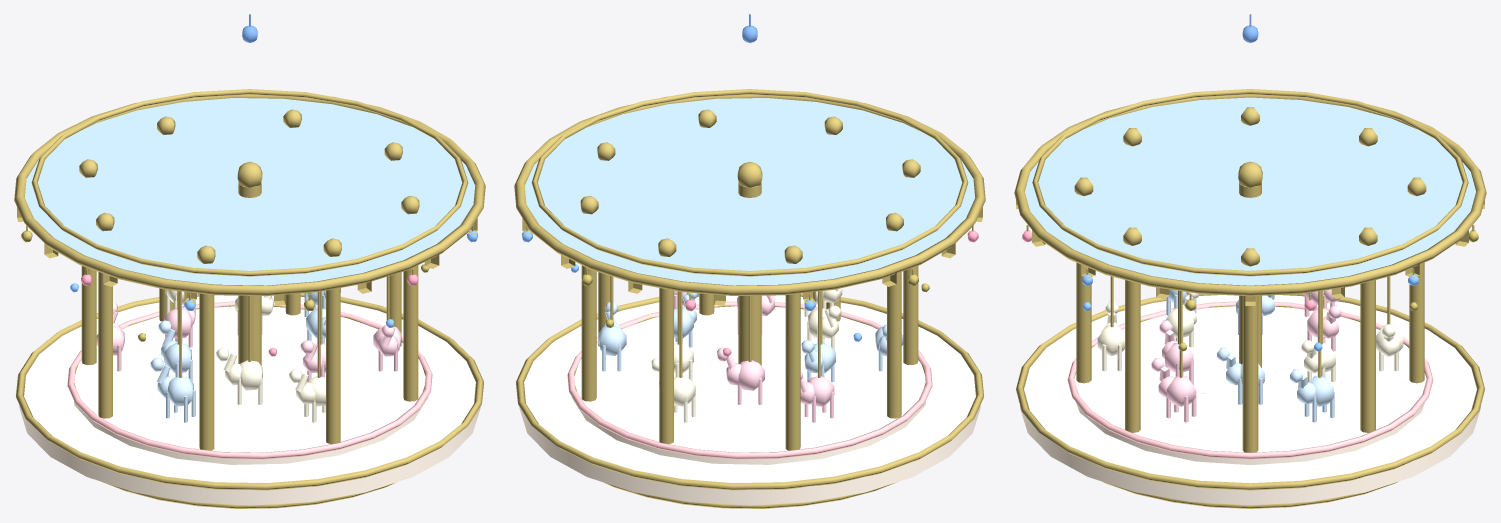
File: 05_fantasia-carousel.glb
3 views of the same model, side by side, from view 1: azimuth 30°, elevation 25°; view 2: azimuth 150°, elevation 25°; view 3: azimuth 270°, elevation 25° (orthographic).
Visible parts, largest first — view 1: canopy_dome, base_platforms, gold_parts, upper_rim, horses_blue, horses_gold, horses_pink; view 2: canopy_dome, base_platforms, gold_parts, upper_rim, horses_blue, horses_pink, horses_gold; view 3: canopy_dome, base_platforms, gold_parts, upper_rim, horses_pink, horses_gold, horses_blue.
Part boxes in pixels (box(x1,y1,x2,y2)): canopy_dome: box(24, 98, 475, 285); base_platforms: box(19, 295, 480, 505); gold_parts: box(14, 89, 485, 508); upper_rim: box(67, 301, 432, 459); horses_blue: box(150, 288, 340, 422); horses_gold: box(165, 290, 325, 422); horses_pink: box(96, 293, 401, 381); canopy_dome: box(524, 98, 975, 285); base_platforms: box(519, 295, 980, 505); gold_parts: box(514, 89, 985, 508); upper_rim: box(567, 301, 932, 459); horses_blue: box(598, 292, 903, 382); horses_pink: box(674, 290, 834, 422); horses_gold: box(651, 288, 842, 422); canopy_dome: box(1025, 97, 1475, 285); base_platforms: box(1020, 295, 1480, 505); gold_parts: box(1014, 89, 1486, 508); upper_rim: box(1067, 301, 1433, 459); horses_pink: box(1151, 289, 1341, 422); horses_gold: box(1097, 292, 1403, 382); horses_blue: box(1166, 289, 1342, 422).
Bounding box in the file's own units: 18.44 × 17.57 × 18.44.
